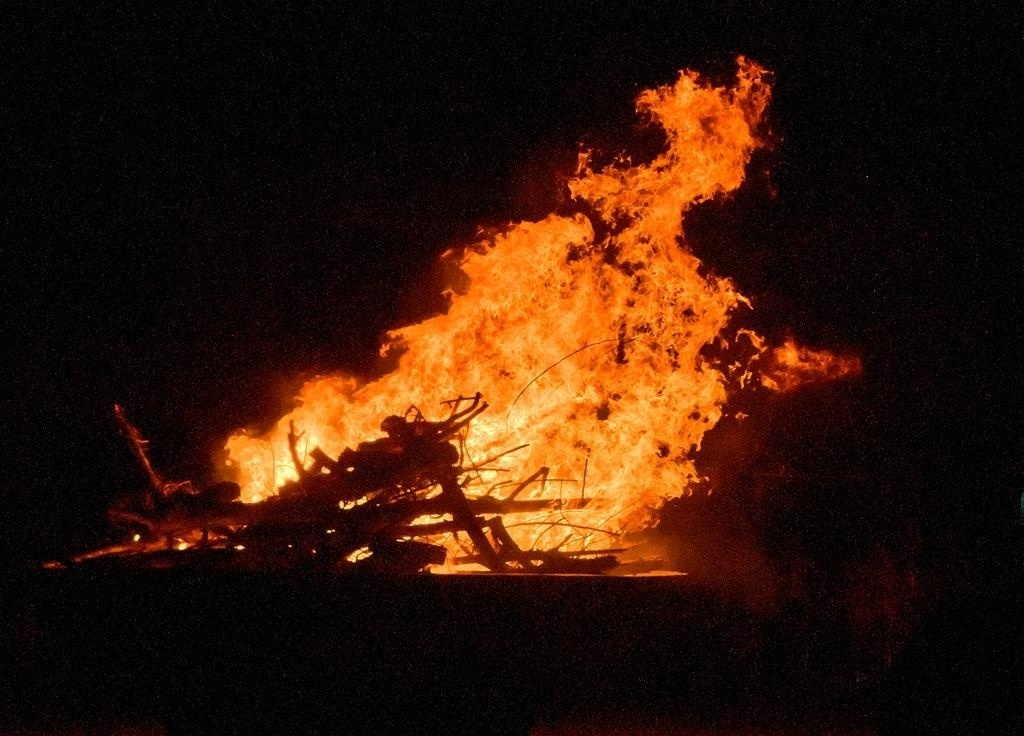fire: (183, 18, 816, 585)
